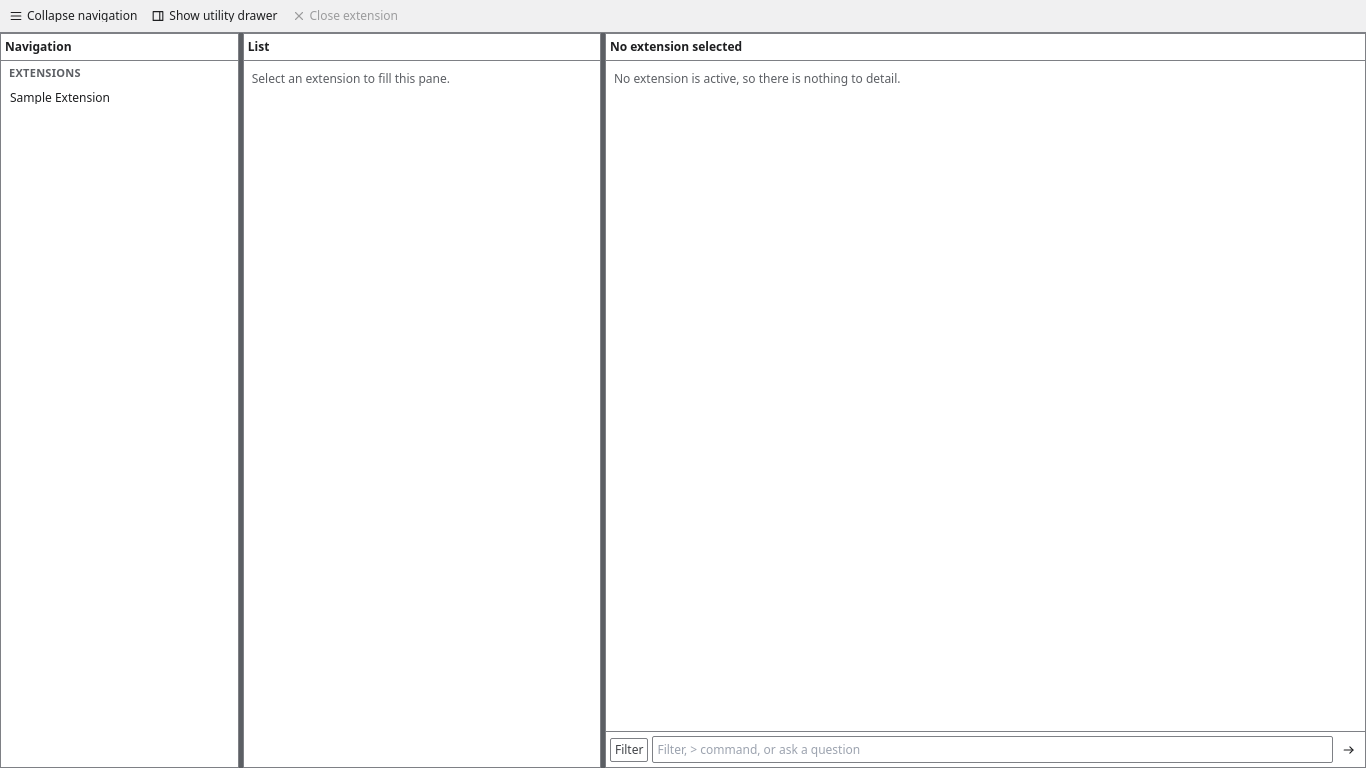
Test case: ShellLayout — extensions › renders both plug-in views inside an ExtensionHostBoundary once activated
Click the button "Sample Extension" at (119, 98), box [5,86,234,110]
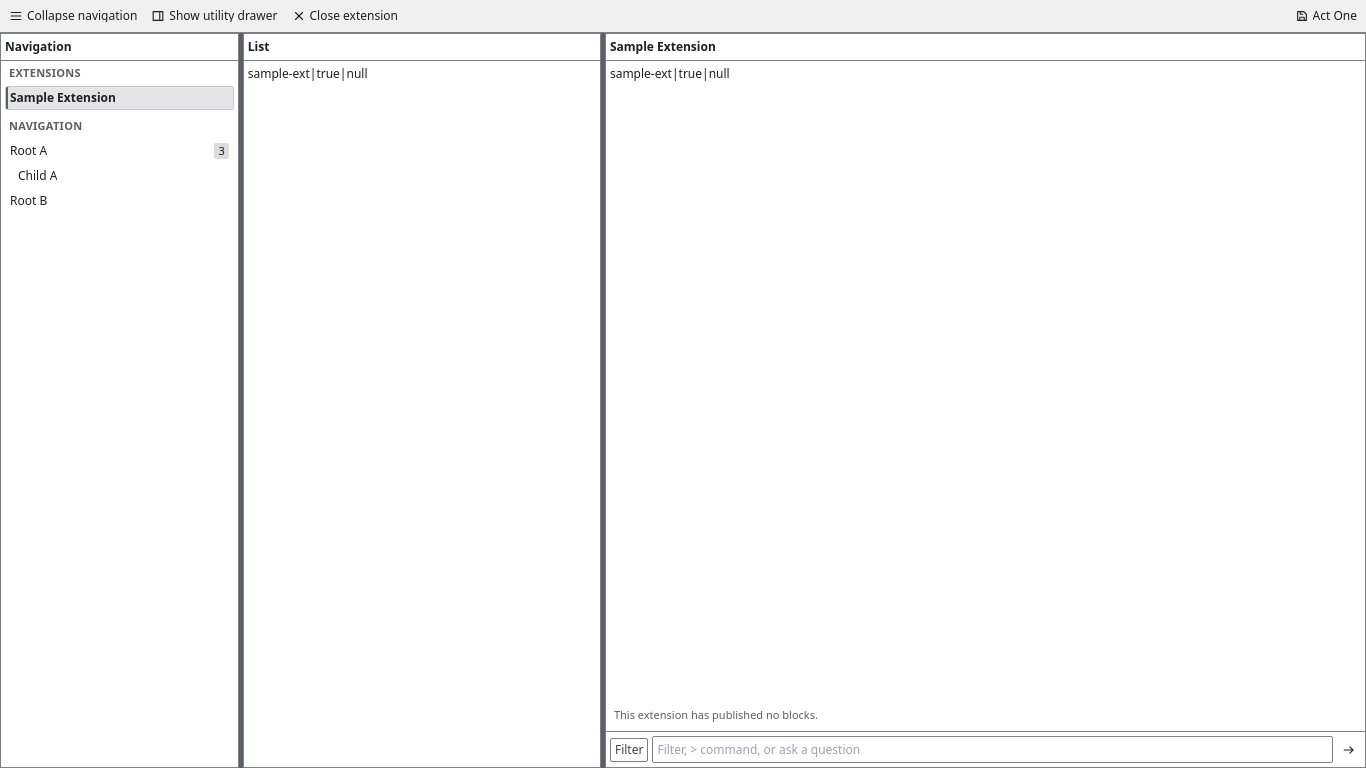
Expected: the text with test id "probe-pane2" reads "sample-ext|true|null", [248,65,368,82]
Expected: the text with test id "probe-pane3" reads "sample-ext|true|null", [610,65,730,82]
Expected: the 1st text "Sample Extension" is shown, [610,38,716,56]
